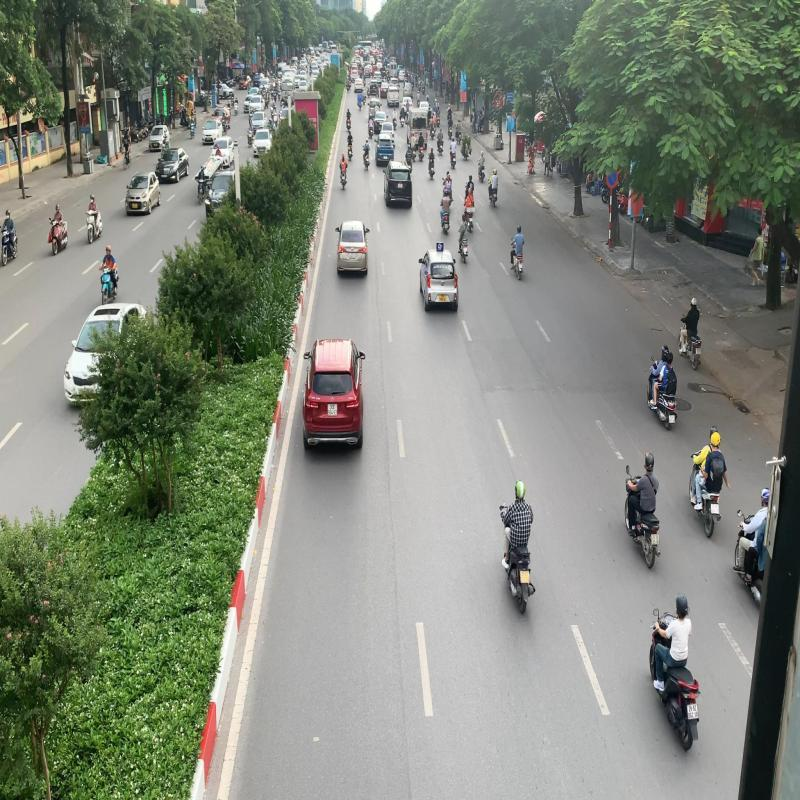helmet: (676, 592, 689, 618), (514, 478, 526, 500), (644, 451, 654, 471), (710, 432, 722, 447), (710, 425, 718, 437), (662, 345, 668, 358), (668, 352, 674, 365)
licenseplate: (686, 702, 700, 720), (520, 569, 530, 584), (650, 533, 660, 545), (710, 504, 720, 514)
motorcyclist: (648, 592, 700, 754), (498, 478, 536, 616), (688, 424, 728, 538), (624, 452, 661, 570), (646, 344, 678, 432)
